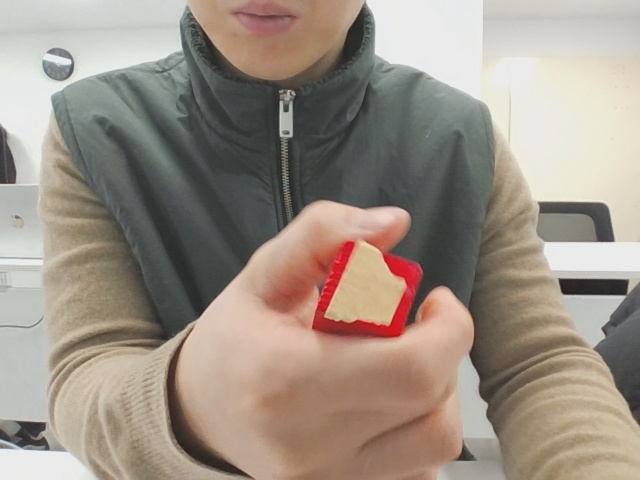error: (321, 230, 433, 352)
